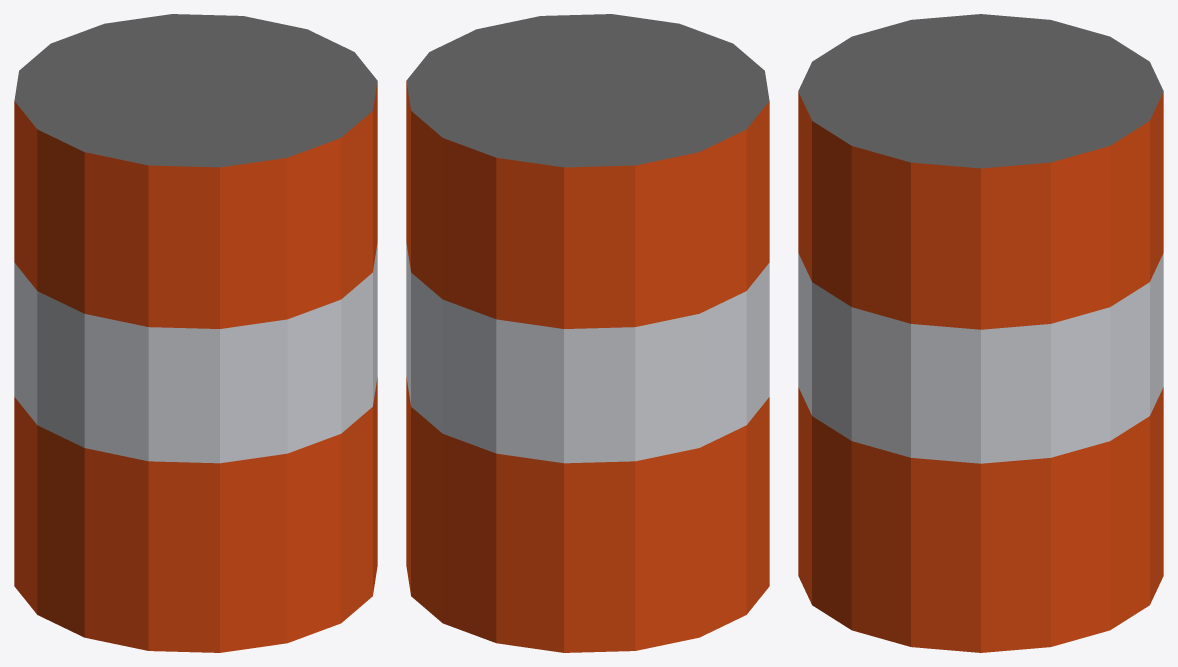
Rendered from barril.fbx.
The picture shows the model from 3 angles, left to right: view 1: azimuth 30°, elevation 25°; view 2: azimuth 150°, elevation 25°; view 3: azimuth 270°, elevation 25°; orthographic projection.
Parts seen in each view (by area): view 1: Cilindro; view 2: Cilindro; view 3: Cilindro.
Boxes of the visible parts, box(x1,y1,x2,y2) form: Cilindro: box(14, 14, 377, 652); Cilindro: box(406, 14, 769, 652); Cilindro: box(798, 14, 1163, 652).
Bounding box in the file's own units: 200 × 293 × 200.
